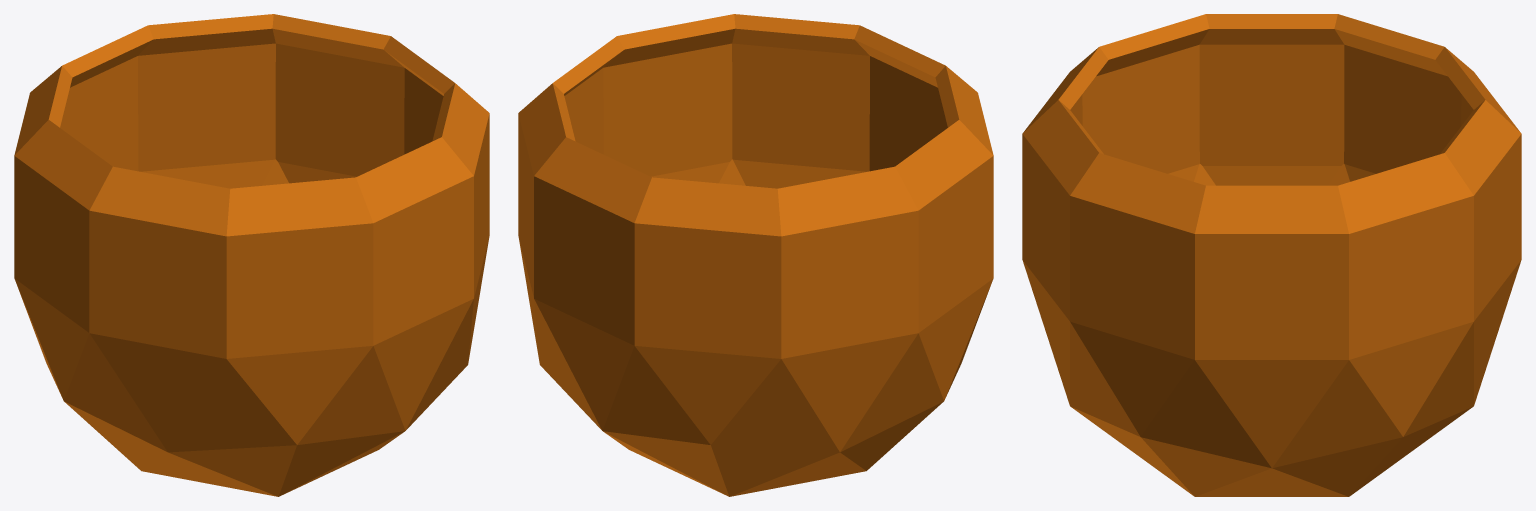
File: canasto.fbx
3 renders of one model, left to right at view 1: azimuth 30°, elevation 25°; view 2: azimuth 150°, elevation 25°; view 3: azimuth 270°, elevation 25°, orthographic. The views are drawn at different scales.
Visible parts, largest first — view 1: Icosphere; view 2: Icosphere; view 3: Icosphere.
Part boxes in pixels (x1=…): Icosphere: x1=14, y1=14, x2=489, y2=496; Icosphere: x1=518, y1=14, x2=993, y2=496; Icosphere: x1=1022, y1=14, x2=1521, y2=496.
Size of the model in its own units: 190 by 171 by 200.
